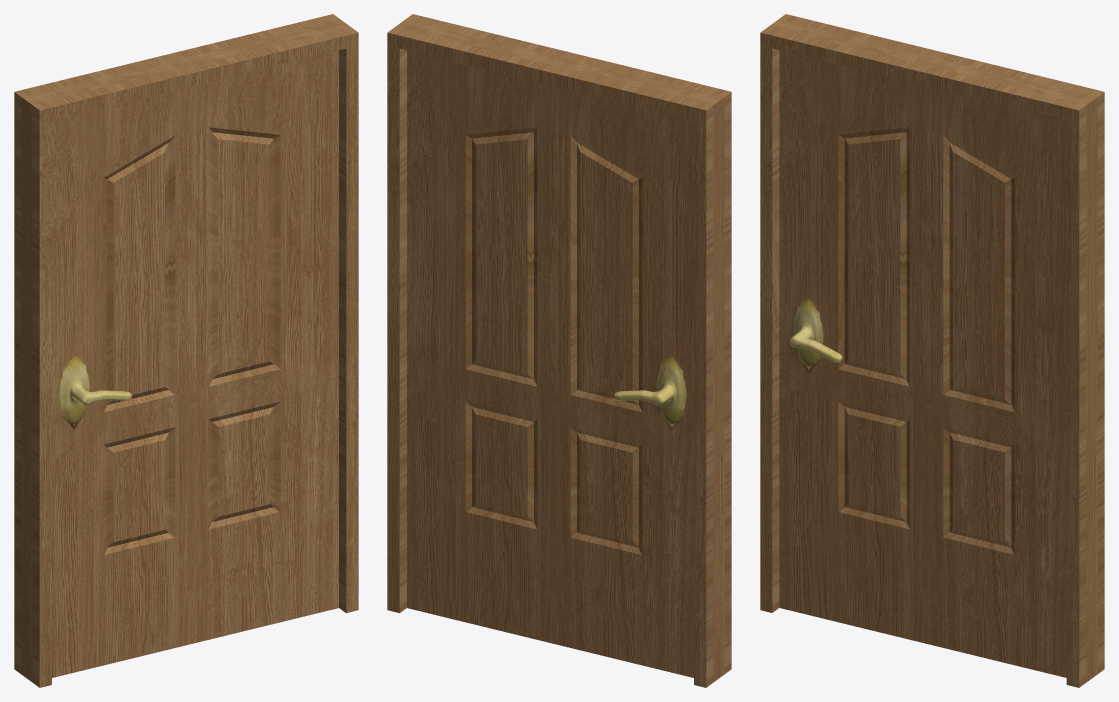
File: door.fbx
3 renders of one model, left to right at view 1: azimuth 30°, elevation 25°; view 2: azimuth 150°, elevation 25°; view 3: azimuth 330°, elevation 25°, orthographic.
Parts seen in each view (by area): view 1: Box001; view 2: Box001; view 3: Box001.
Part boxes in pixels (x1,y1,x2,y2): Box001: (14,14,358,687); Box001: (387,14,731,687); Box001: (760,14,1104,687).
Bounding box in the file's own units: 130 × 225 × 29.
2 materials, 2 textured.
